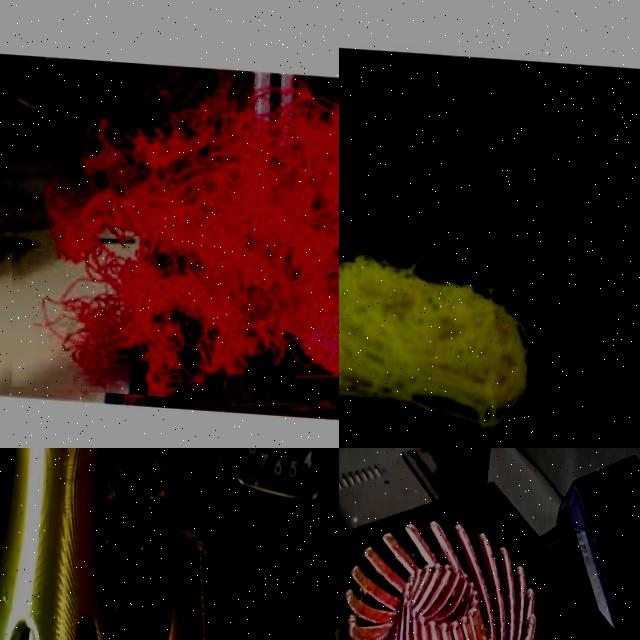spaghetti: (0, 33, 339, 423), (339, 254, 529, 439), (103, 480, 120, 506)
